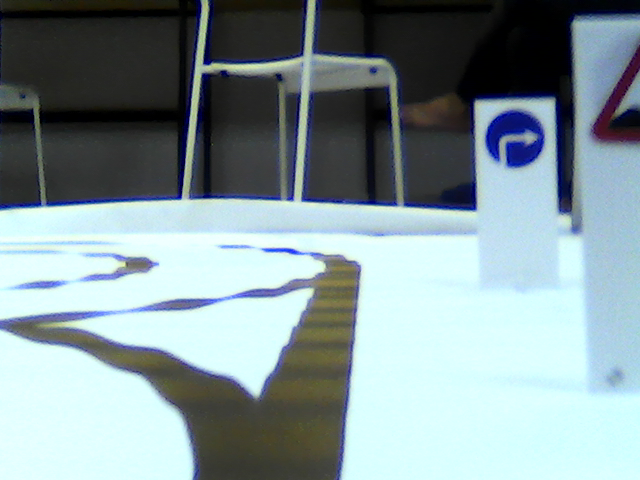Right: (484, 107, 546, 167)
